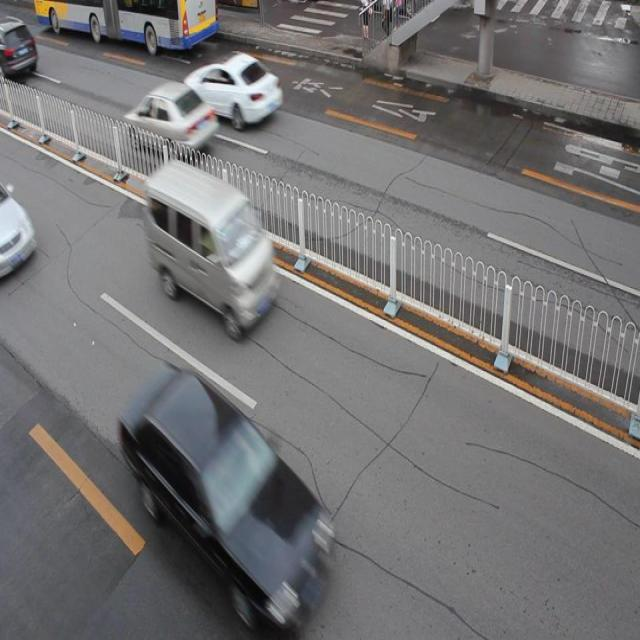car: (122, 367, 325, 626), (185, 50, 282, 128), (124, 80, 218, 156), (1, 184, 35, 283), (1, 13, 38, 84)
truck: (145, 160, 276, 329)
van: (35, 1, 218, 46)
